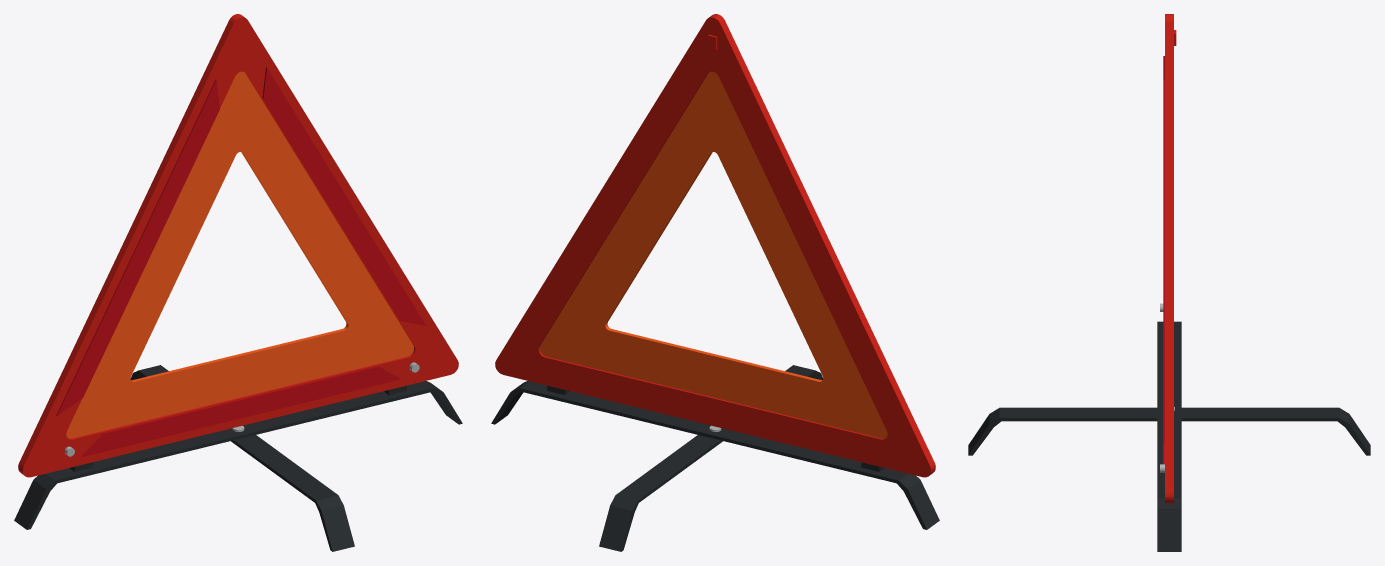
3 renders of one model, left to right at view 1: azimuth 30°, elevation 25°; view 2: azimuth 150°, elevation 25°; view 3: azimuth 270°, elevation 25°, orthographic. The views are drawn at different scales.
Parts seen in each view (by area): view 1: 05_Orange_three_span_open_ring, 04_Red_outer_strip_left, 01_Width_bent_metal_strip, 04_Red_outer_strip_right, 04_Red_outer_strip_bottom, 06_Plain_reflective_field_left, 06_Plain_reflective_field_bottom, 06_Plain_reflective_field_right, 02_Depth_bent_metal_strip; view 2: 05_Orange_three_span_open_ring, 04_Red_outer_strip_left, 04_Red_outer_strip_bottom, 04_Red_outer_strip_right, 01_Width_bent_metal_strip, 02_Depth_bent_metal_strip; view 3: 02_Depth_bent_metal_strip, 04_Red_outer_strip_right, 01_Width_bent_metal_strip, 06_Plain_reflective_field_right.
Part boxes in pixels (x1=…): 05_Orange_three_span_open_ring: x1=66, y1=71, x2=413, y2=438; 04_Red_outer_strip_left: x1=18, y1=14, x2=240, y2=474; 01_Width_bent_metal_strip: x1=14, y1=381, x2=462, y2=529; 04_Red_outer_strip_right: x1=236, y1=14, x2=458, y2=368; 04_Red_outer_strip_bottom: x1=20, y1=352, x2=457, y2=477; 06_Plain_reflective_field_left: x1=56, y1=79, x2=219, y2=415; 06_Plain_reflective_field_bottom: x1=81, y1=366, x2=400, y2=456; 06_Plain_reflective_field_right: x1=262, y1=67, x2=425, y2=325; 02_Depth_bent_metal_strip: x1=130, y1=365, x2=354, y2=551; 05_Orange_three_span_open_ring: x1=540, y1=71, x2=887, y2=438; 04_Red_outer_strip_left: x1=713, y1=14, x2=935, y2=474; 04_Red_outer_strip_bottom: x1=496, y1=352, x2=933, y2=477; 04_Red_outer_strip_right: x1=495, y1=14, x2=717, y2=368; 01_Width_bent_metal_strip: x1=491, y1=381, x2=939, y2=529; 02_Depth_bent_metal_strip: x1=599, y1=365, x2=823, y2=551; 02_Depth_bent_metal_strip: x1=968, y1=407, x2=1370, y2=455; 04_Red_outer_strip_right: x1=1165, y1=14, x2=1173, y2=501; 01_Width_bent_metal_strip: x1=1157, y1=321, x2=1181, y2=551; 06_Plain_reflective_field_right: x1=1163, y1=79, x2=1164, y2=437.
Size of the model in its own units: 0.43 by 0.43 by 0.36.
